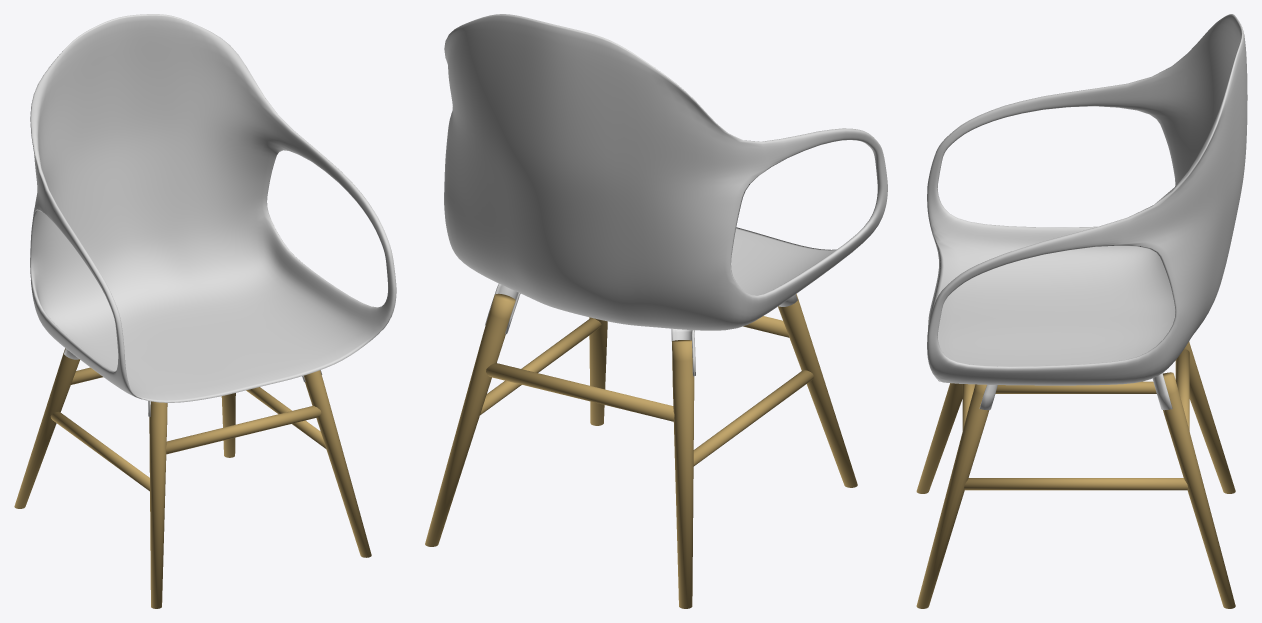
File: SillaBlanca_Coworking.fbx
3 renders of one model, left to right at view 1: azimuth 30°, elevation 25°; view 2: azimuth 150°, elevation 25°; view 3: azimuth 270°, elevation 25°, orthographic. The views are drawn at different scales.
Visible parts, largest first — view 1: SillaBlanca; view 2: SillaBlanca; view 3: SillaBlanca.
Part boxes in pixels (box(x1,y1,x2,y2)): SillaBlanca: box(14, 14, 396, 608); SillaBlanca: box(425, 14, 887, 608); SillaBlanca: box(916, 14, 1247, 608).
Size of the model in its own units: 54.61 by 86.7 by 50.41.
